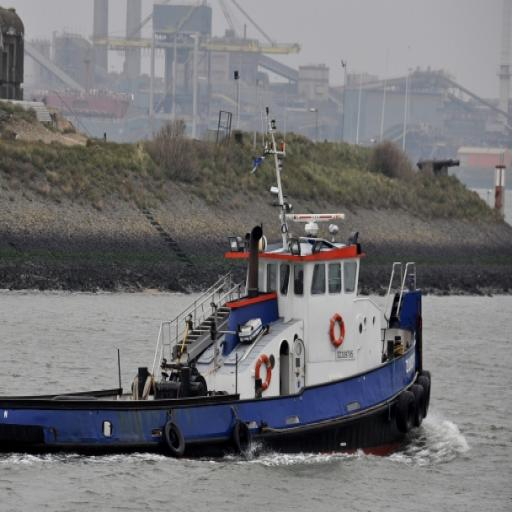tugboat: (1, 208, 436, 477)
